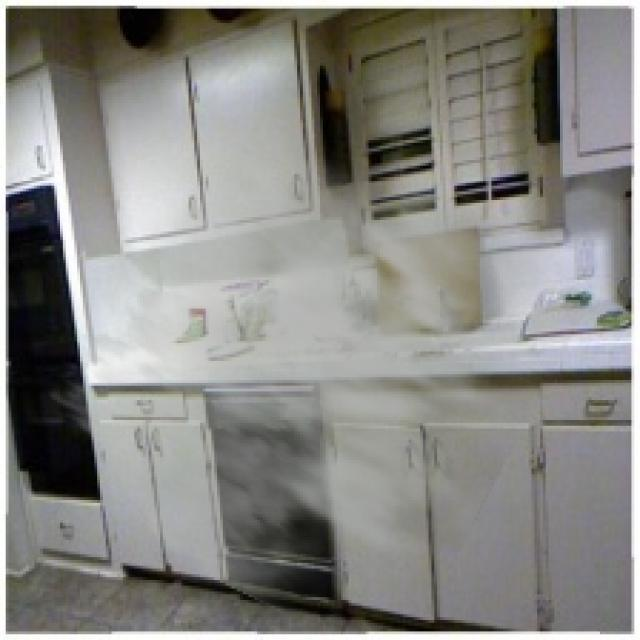Smoke: (45, 114, 600, 629)
